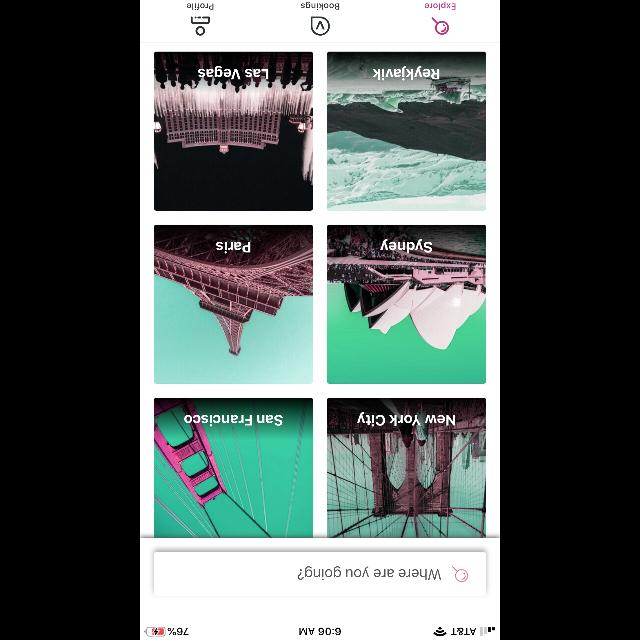icon: (190, 16, 210, 36), (452, 566, 468, 582), (432, 18, 448, 34)
image: (326, 224, 486, 384), (326, 51, 486, 210), (154, 224, 312, 384), (154, 51, 312, 210), (326, 398, 486, 538), (154, 398, 312, 538), (310, 16, 330, 36)
input: (154, 552, 486, 596)
text: (298, 566, 440, 580), (357, 412, 455, 426), (184, 414, 282, 426), (198, 66, 268, 80), (372, 66, 440, 80), (380, 239, 432, 253), (216, 242, 250, 254), (301, 2, 339, 10), (424, 2, 456, 10), (187, 4, 213, 10)
uppertaskbar: (140, 625, 500, 639)
